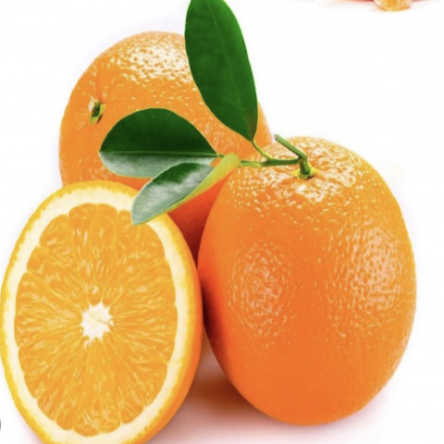orange: (182, 106, 426, 440), (52, 25, 295, 296)
